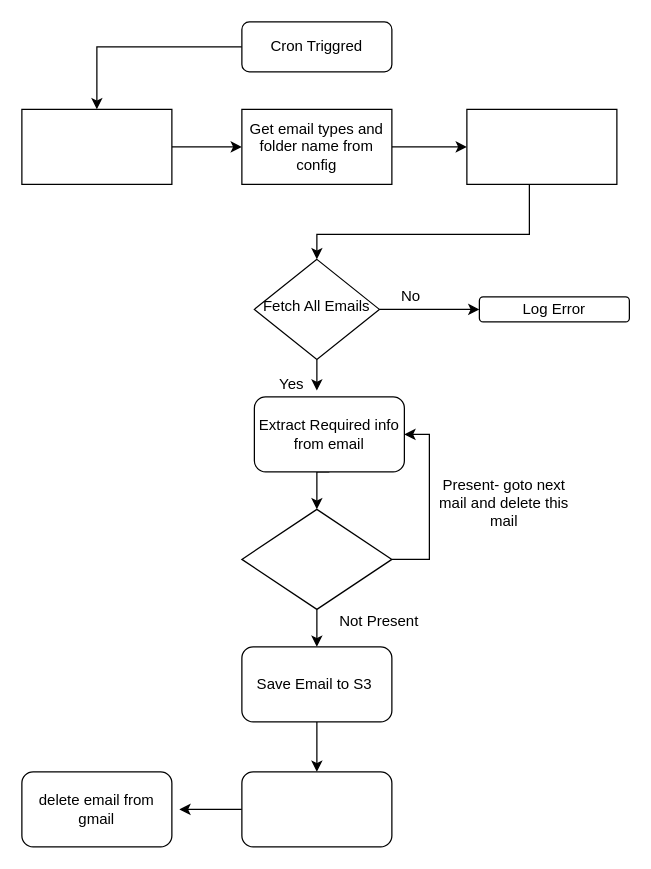
The diagram is 651 pixels wide and 869 high, and some of its shapes have lost their labels. The shapes that lost their labels are listed below. From the top down, each one's centre as x and y in pixels, then its label:
At (x=96, y=146): "Get last time fetched value from DB".
At (x=541, y=146): "Get username and password from AWS secrets".
At (x=316, y=558): "msgId present in DB".
At (x=316, y=809): "Store the url in db with other details".
